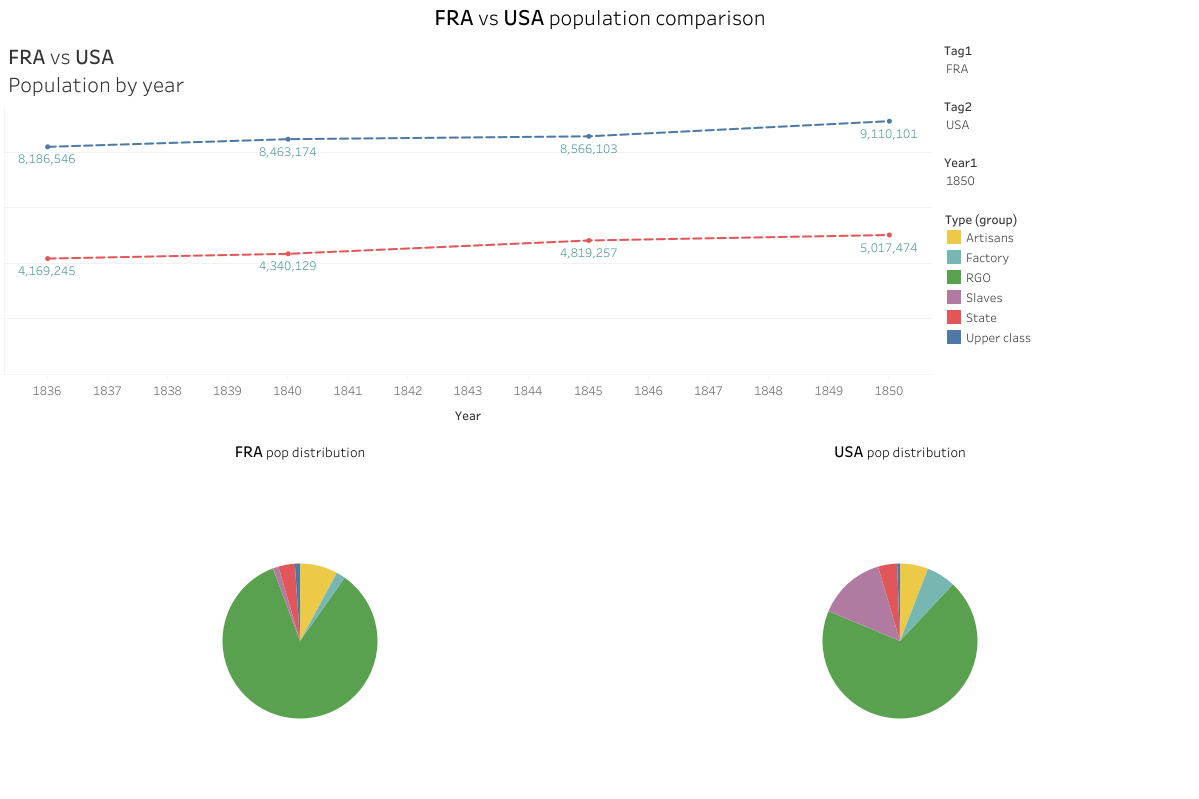

Layout of this report page (visuals, bound fields, positions):
{"tool":"tableau","page":{"name":"Dashboard 1","canvas":[1200,800],"ordinal":0},"visuals":[{"type":"text","box":[0,0,1200,32]},{"type":"worksheet","title":"Total Population","mark":"Line","cols":["F1"],"box":[0,32,936,403]},{"type":"parameter","param":"[Parameters].[Parameter 1]","box":[940,36,256,56]},{"type":"parameter","param":"[Parameters].[Parameter 2]","box":[940,92,256,56]},{"type":"parameter","param":"[Parameters].[Parameter 3]","box":[940,148,256,56]},{"type":"legend","title":"Pop types (tag 1)","param":"[federated.08z1zbk057ot8r0zwo5cd1l0ut3z].[Type (group)]","box":[940,204,256,208]},{"type":"text","box":[0,435,600,32]},{"type":"text","box":[600,435,600,32]},{"type":"worksheet","title":"Pop types (tag 1)","mark":"Pie","box":[0,467,600,333]},{"type":"worksheet","title":"Pop types (tag 2)","mark":"Pie","box":[600,467,600,333]}]}

Visuals, with their boxes in screenshot pixels (x1, y1, x2, y2), scaled from the page's 1200x800 canvas onto the 1199x799 screenshot:
text: (x1=0, y1=0, x2=1198, y2=32)
"Total Population" worksheet (Line marks): (x1=0, y1=32, x2=935, y2=434)
parameter: (x1=939, y1=36, x2=1195, y2=92)
parameter: (x1=939, y1=92, x2=1195, y2=148)
parameter: (x1=939, y1=148, x2=1195, y2=204)
"Pop types (tag 1)" legend: (x1=939, y1=204, x2=1195, y2=411)
text: (x1=0, y1=434, x2=600, y2=466)
text: (x1=600, y1=434, x2=1198, y2=466)
"Pop types (tag 1)" worksheet (Pie marks): (x1=0, y1=466, x2=600, y2=798)
"Pop types (tag 2)" worksheet (Pie marks): (x1=600, y1=466, x2=1198, y2=798)
